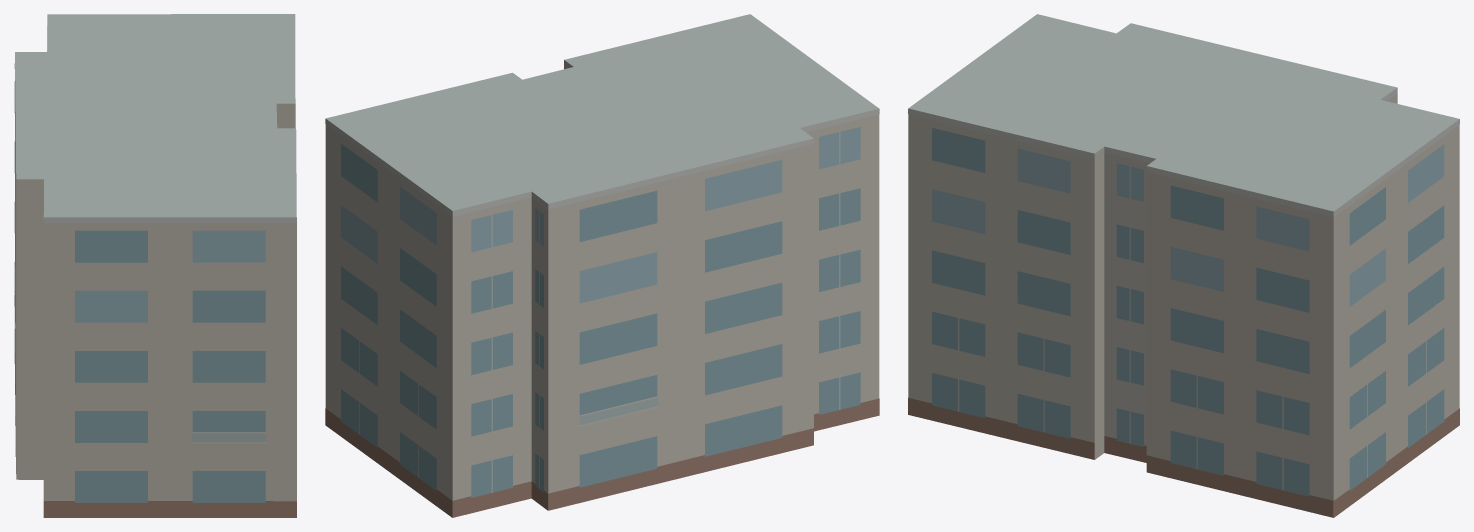
The model's file is survey-upis-32908320.glb.
3 renders of one model, left to right at view 1: azimuth 30°, elevation 25°; view 2: azimuth 150°, elevation 25°; view 3: azimuth 270°, elevation 25°, orthographic. The views are drawn at different scales.
Visible parts, largest first — view 1: survey-upis-32908320.tmp; view 2: survey-upis-32908320.tmp; view 3: survey-upis-32908320.tmp.
Part boxes in pixels (box(x1,y1,x2,y2)): survey-upis-32908320.tmp: box(14, 14, 296, 517); survey-upis-32908320.tmp: box(325, 14, 879, 517); survey-upis-32908320.tmp: box(908, 14, 1459, 517).
Size of the model in its own units: 18.19 by 13.15 by 21.47.
